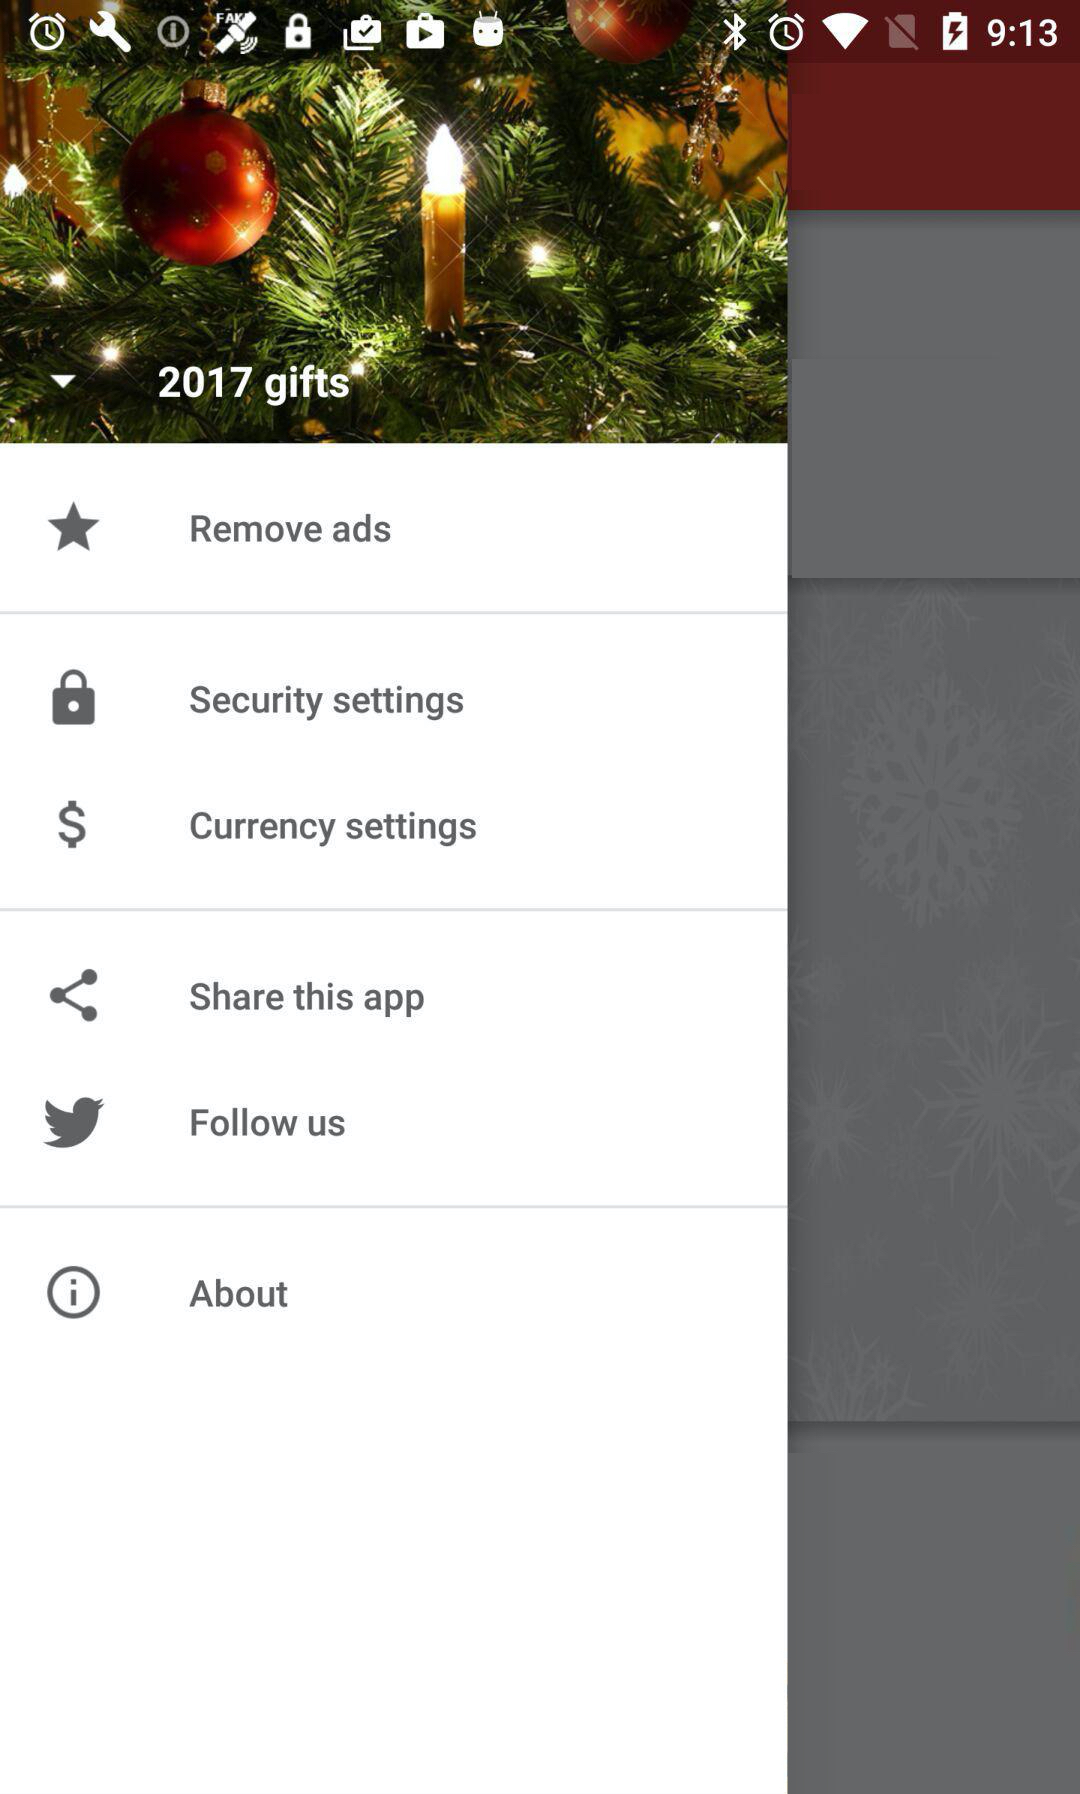Drawer: (1, 64, 787, 1793)
Icon: (42, 1096, 106, 1149), (47, 500, 102, 554), (47, 1266, 102, 1320), (50, 967, 99, 1023), (53, 669, 97, 727), (58, 800, 88, 850), (49, 374, 78, 391)
Text: (190, 811, 478, 848), (190, 684, 465, 721), (190, 982, 427, 1019), (159, 364, 351, 407), (191, 513, 392, 545), (191, 1107, 347, 1138), (190, 1278, 290, 1310)
UpperTaskBar: (1, 1, 1080, 64)
